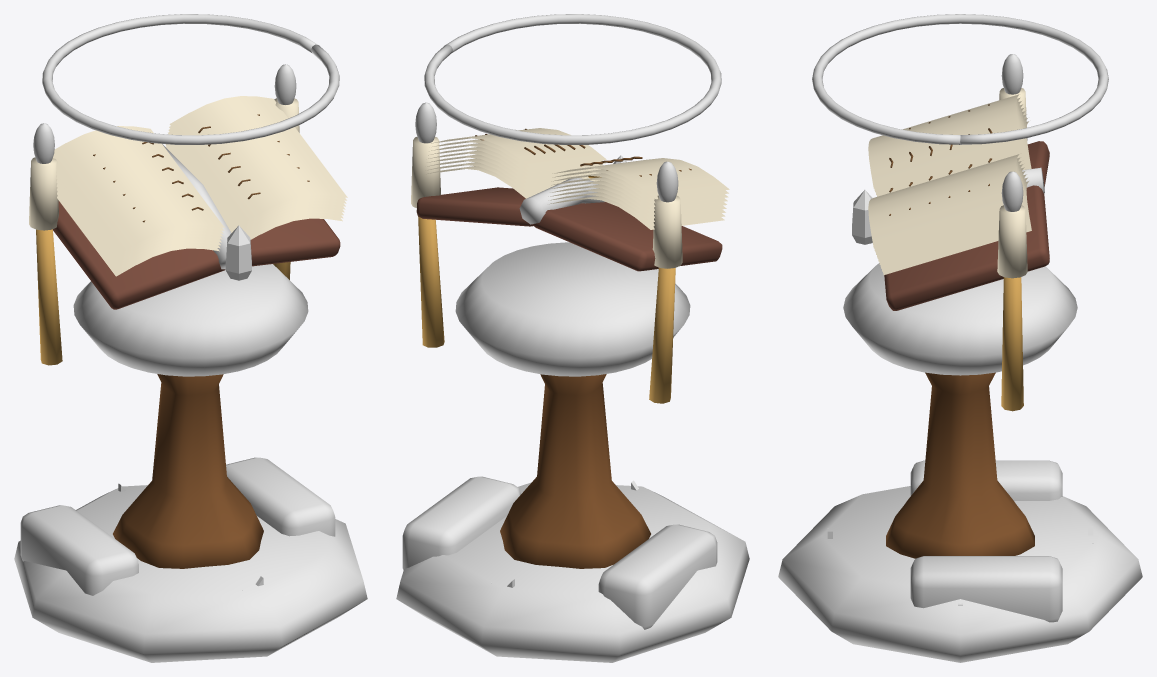
File: book-3.fbx
The picture shows the model from 3 angles, left to right: view 1: azimuth 30°, elevation 25°; view 2: azimuth 150°, elevation 25°; view 3: azimuth 270°, elevation 25°; orthographic projection.
Parts seen in each view (by area): view 1: Pages_Organic, LibraryStone, Turret_Organic, ReadingPlinth, Base_Bark, RuneCircle, Turret_Glow, Bookmark, BookSpine; view 2: LibraryStone, Turret_Organic, Pages_Organic, ReadingPlinth, Base_Bark, RuneCircle, BookSpine, Turret_Glow; view 3: LibraryStone, Pages_Organic, Turret_Organic, ReadingPlinth, Base_Bark, RuneCircle, Turret_Glow, Bookmark.
Part boxes in pixels (bbox=[...]): Pages_Organic: bbox=[53, 96, 347, 309]; LibraryStone: bbox=[14, 485, 367, 662]; Turret_Organic: bbox=[29, 98, 299, 568]; ReadingPlinth: bbox=[73, 264, 308, 376]; Base_Bark: bbox=[20, 457, 335, 595]; RuneCircle: bbox=[42, 14, 339, 144]; Turret_Glow: bbox=[33, 64, 296, 163]; Bookmark: bbox=[225, 225, 251, 280]; BookSpine: bbox=[162, 144, 231, 269]; LibraryStone: bbox=[396, 482, 749, 662]; Turret_Organic: bbox=[411, 136, 682, 568]; Pages_Organic: bbox=[416, 128, 729, 271]; ReadingPlinth: bbox=[455, 242, 690, 376]; Base_Bark: bbox=[402, 476, 717, 629]; RuneCircle: bbox=[424, 14, 721, 144]; BookSpine: bbox=[519, 178, 604, 224]; Turret_Glow: bbox=[415, 102, 678, 202]; LibraryStone: bbox=[778, 486, 1142, 662]; Pages_Organic: bbox=[868, 94, 1049, 310]; Turret_Organic: bbox=[886, 88, 1034, 558]; ReadingPlinth: bbox=[843, 263, 1077, 375]; Base_Bark: bbox=[910, 460, 1062, 622]; RuneCircle: bbox=[812, 14, 1108, 144]; Turret_Glow: bbox=[1001, 54, 1023, 211]; Bookmark: bbox=[852, 190, 872, 244].
Bounding box in the file's own units: 84 × 133 × 84.
